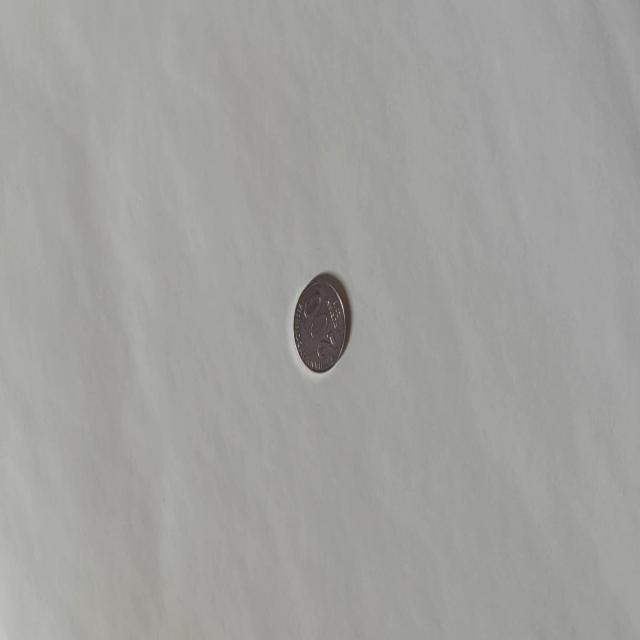dua ratus rupiah: (292, 273, 346, 373)
